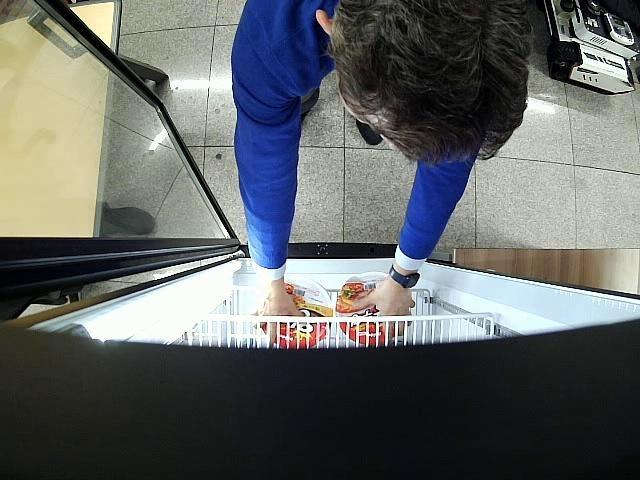10_wangTtukkeong: (262, 276, 333, 347), (335, 272, 396, 346)
